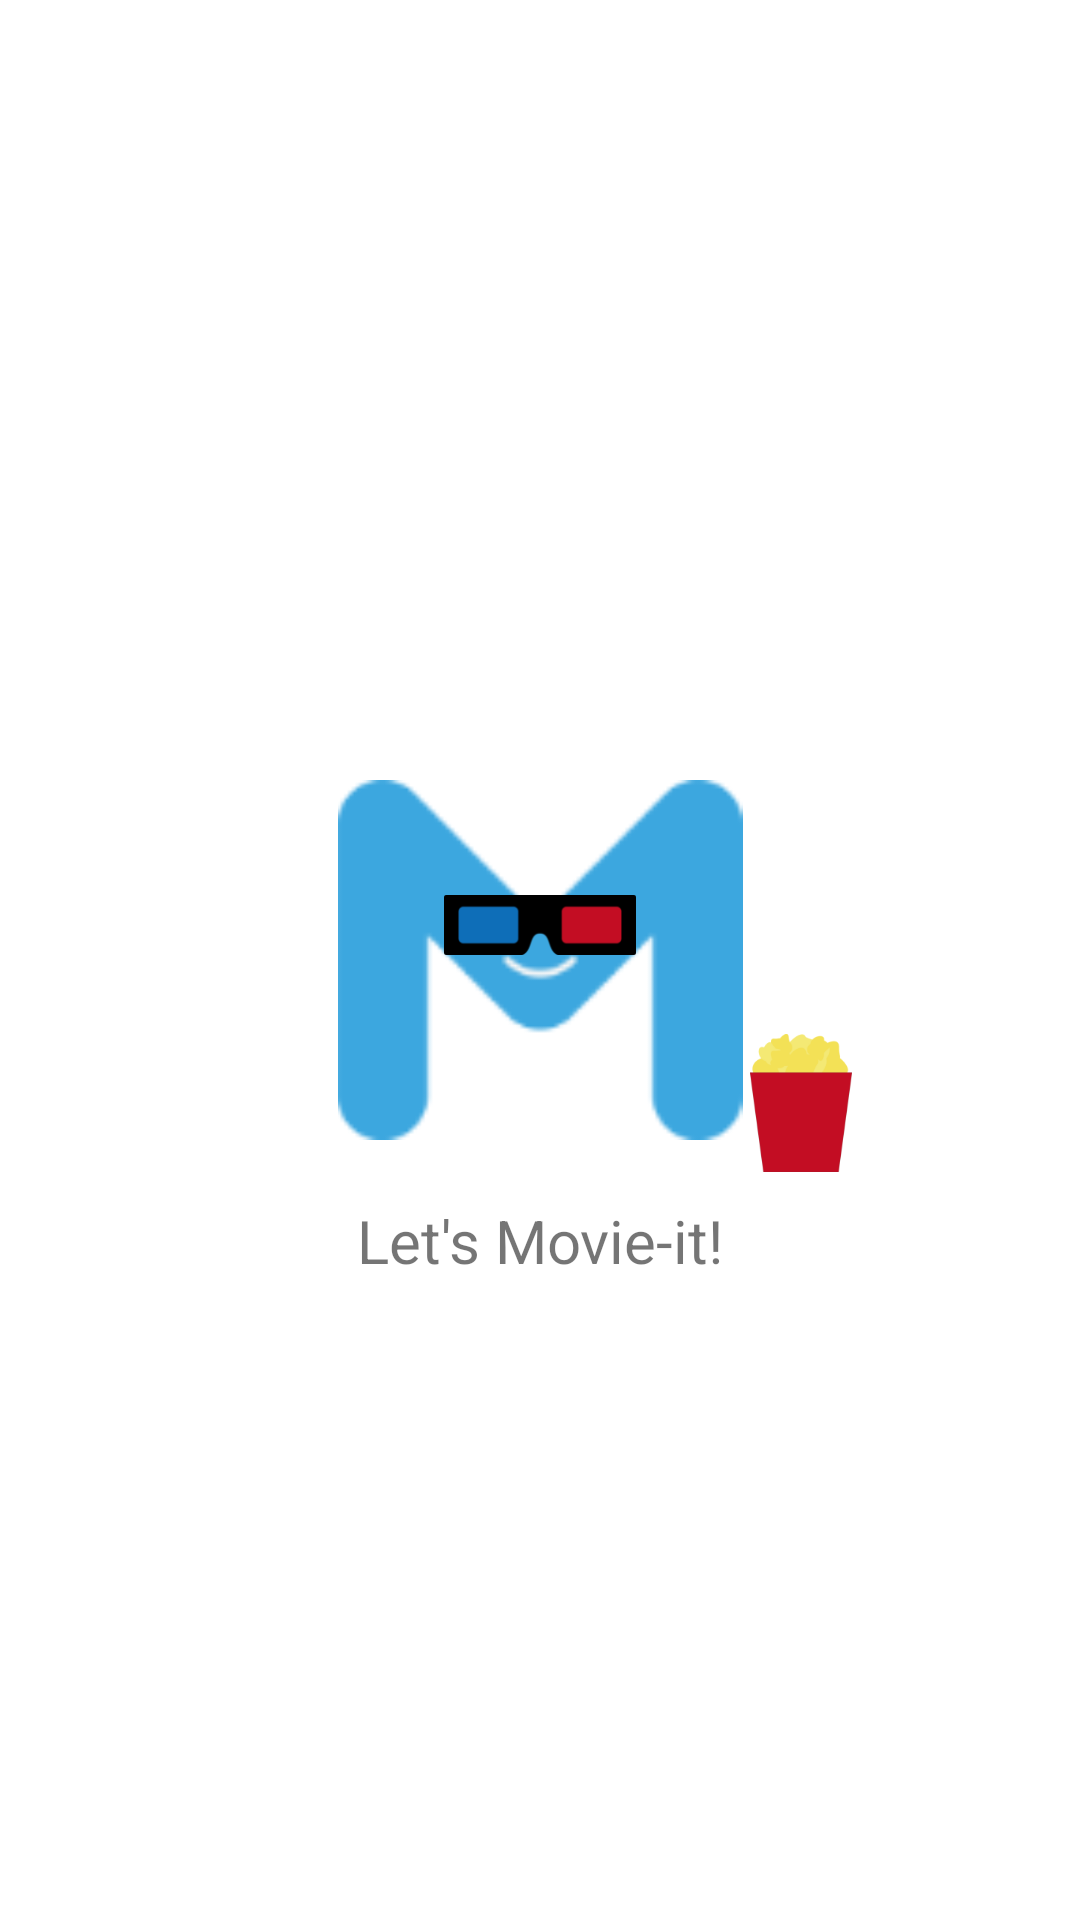

Icon bounding boxes for this 1080 x 1920 phone screenshot, format (x1, y1, x2, y2):
glasses: (444, 895, 636, 955)
popcorn: (750, 1034, 852, 1172)
